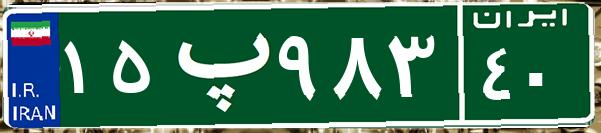0: (525, 38, 570, 115)
1: (57, 26, 110, 107)
3: (385, 28, 445, 110)
4: (475, 38, 525, 113)
5: (110, 28, 158, 105)
8: (330, 28, 385, 110)
9: (273, 28, 330, 110)
پ: (158, 15, 273, 115)
